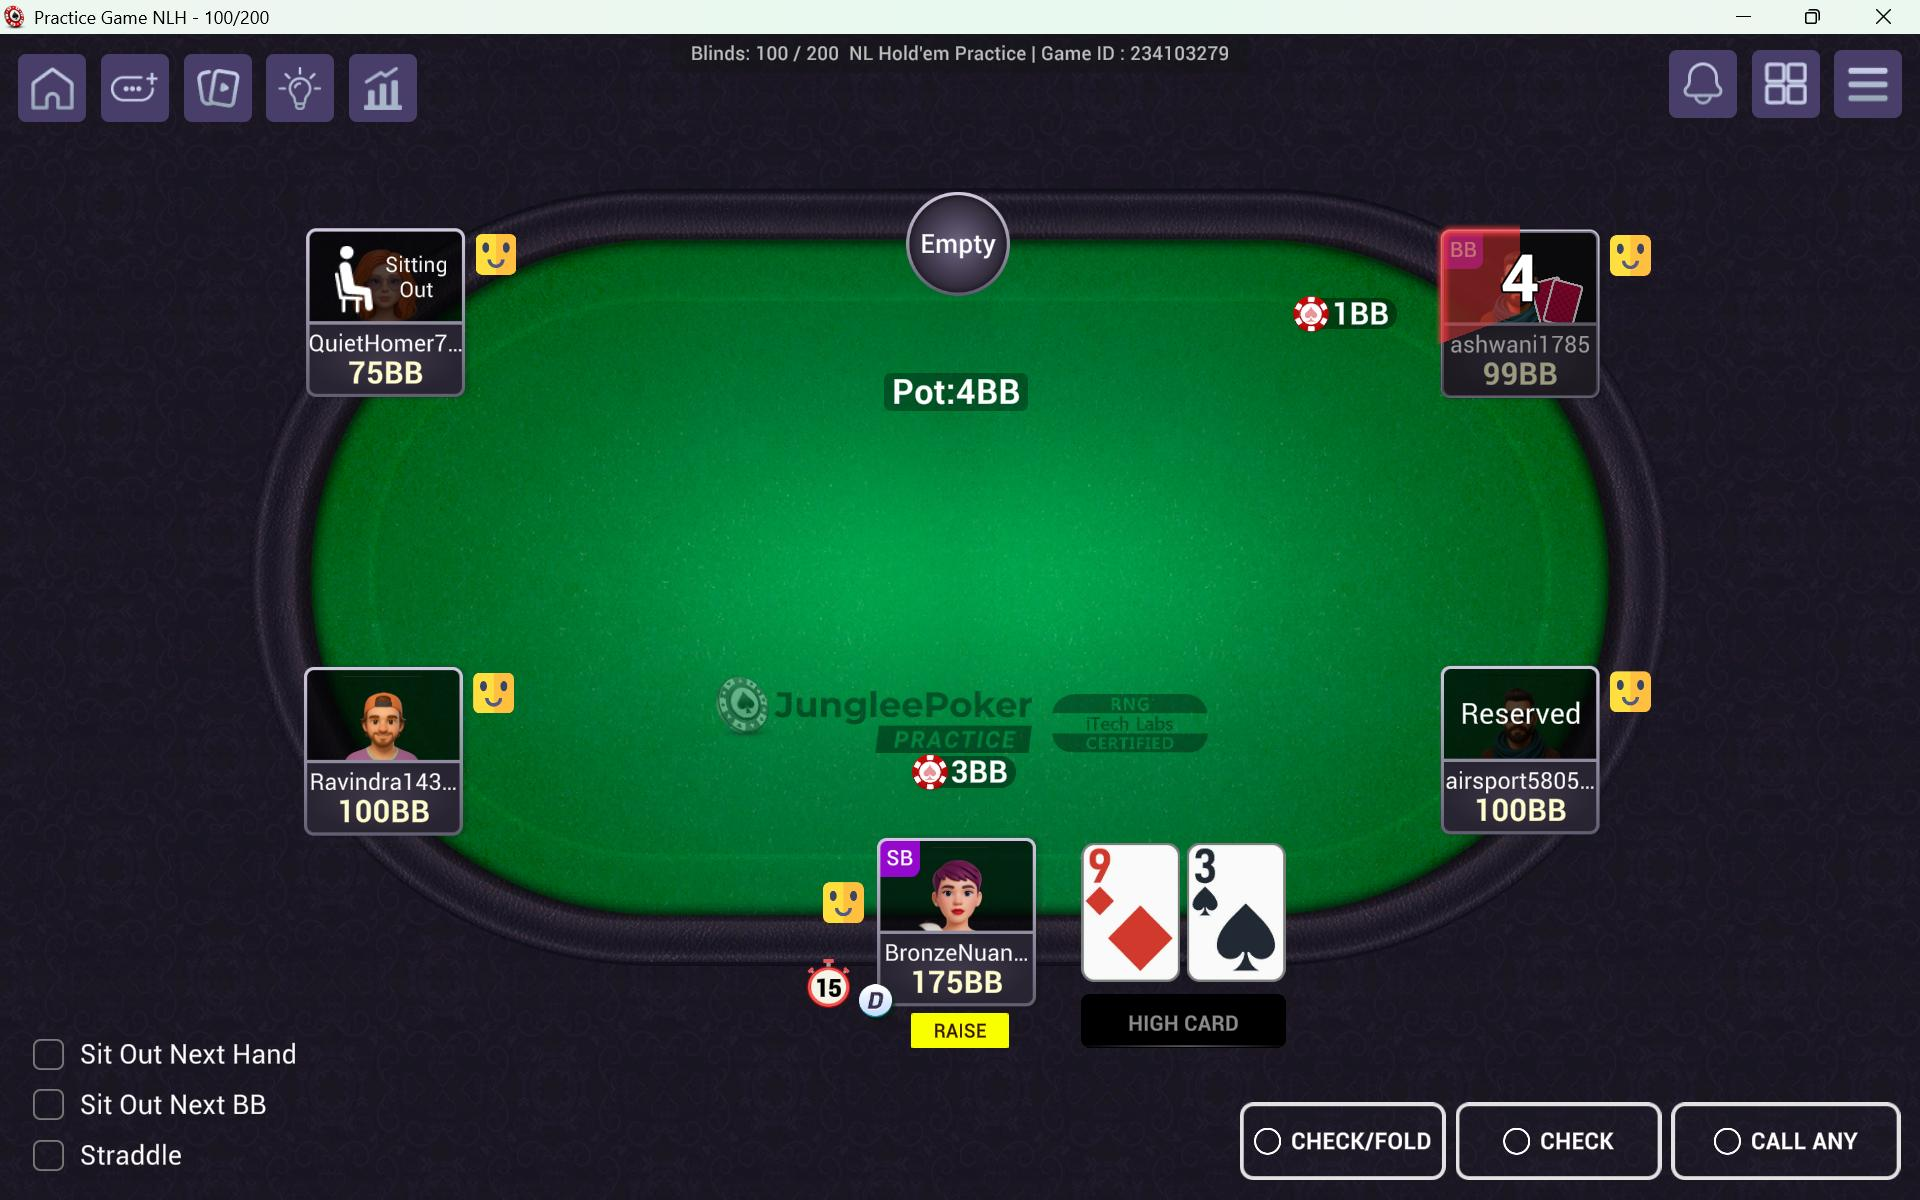card1_rank: (1080, 843, 1127, 889)
card1_suite_diamond: (1110, 883, 1185, 979)
card2_rank: (1190, 836, 1245, 889)
card2_suite_spades: (1215, 886, 1283, 983)
my_bet: (908, 748, 1013, 791)
my_stack: (878, 958, 1034, 1008)
position_BB: (1440, 228, 1498, 272)
position_SB: (878, 838, 923, 883)
total_pot: (882, 366, 1030, 415)
villian1_name: (305, 756, 463, 798)
villian1_stack: (312, 798, 456, 832)
villian2_name: (305, 318, 462, 361)
villian2_stack: (305, 358, 460, 397)
villian4_name: (1443, 318, 1595, 365)
villian4_stack: (1438, 348, 1601, 395)
villian5_bet: (1292, 293, 1396, 333)
villian5_name: (1444, 753, 1598, 798)
villian5_stack: (1444, 794, 1601, 834)
